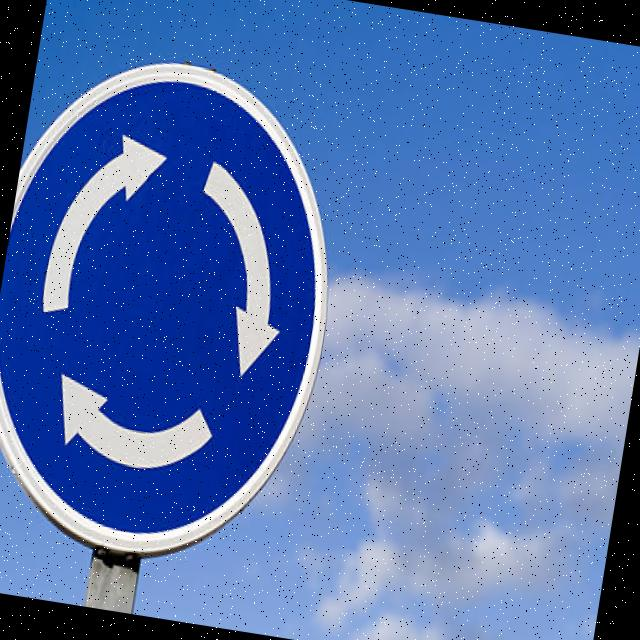round_about: (0, 30, 369, 579)
